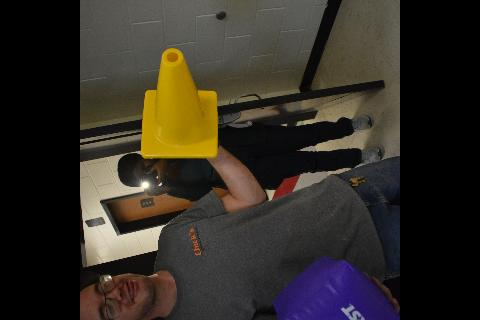cone: (141, 46, 219, 158)
cube: (270, 254, 399, 320)
